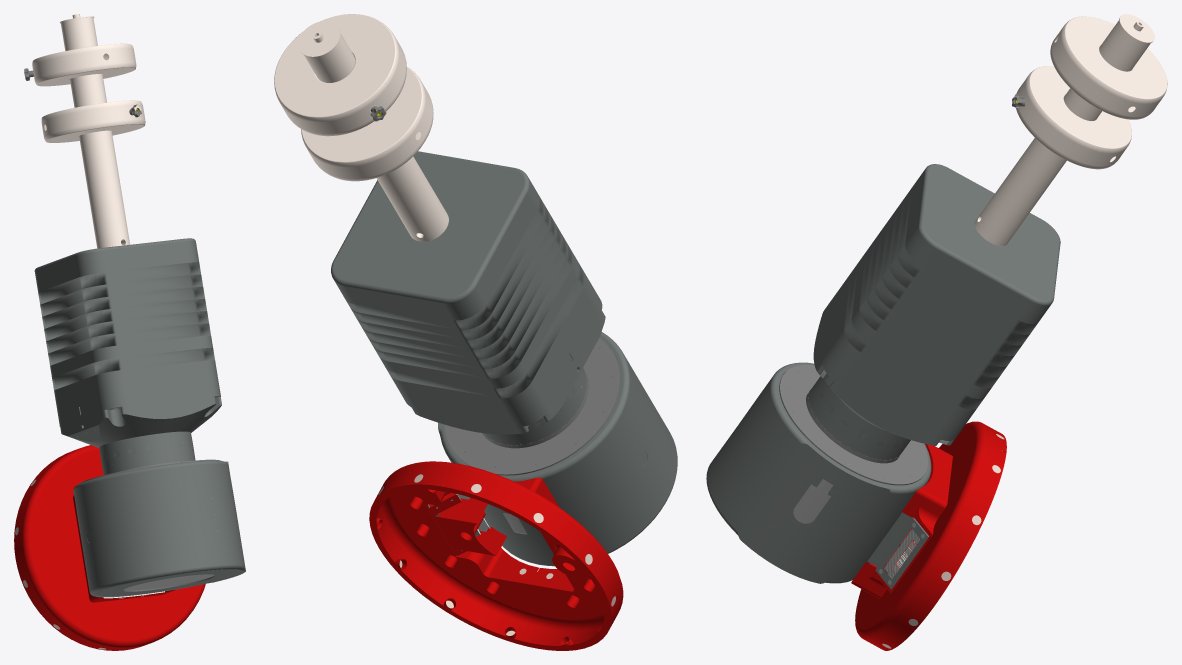
File: seperate-3-simplified v22.fbx
3 renders of one model, left to right at view 1: azimuth 30°, elevation 25°; view 2: azimuth 150°, elevation 25°; view 3: azimuth 270°, elevation 25°, orthographic. The views are drawn at different scales.
Visible parts, largest first — view 1: Body1 (×16), Body35, Body3, Body2, Body8, Body278; view 2: Body1 (×19), Body3, Body35; view 3: Body1 (×20), Body35, Body3, Body278.
Part boxes in pixels (<box>): Body1 (×16): <box>14,17,221,650</box>; Body35: <box>73,460,245,597</box>; Body3: <box>34,238,197,279</box>; Body2: <box>96,569,241,596</box>; Body8: <box>43,532,76,569</box>; Body278: <box>124,498,217,590</box>; Body1 (×19): <box>274,14,623,650</box>; Body3: <box>331,151,533,310</box>; Body35: <box>438,332,677,566</box>; Body1 (×20): <box>779,16,1167,650</box>; Body35: <box>706,362,931,583</box>; Body3: <box>913,164,1060,313</box>; Body278: <box>731,433,849,523</box>.
Size of the model in its own units: 0.5039 by 1.45 by 0.9338.
